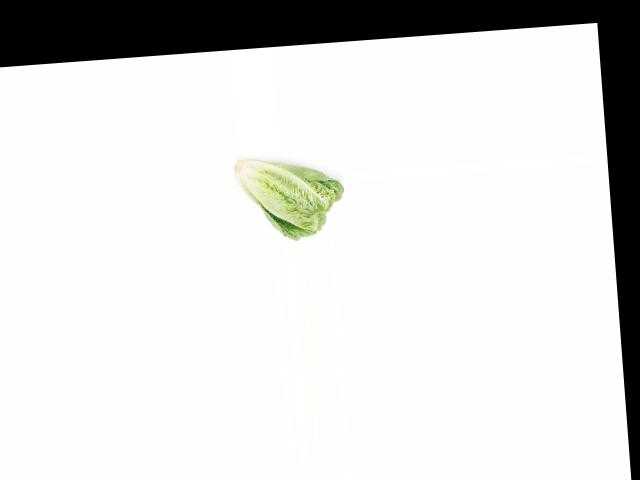lettuce: (231, 150, 346, 244)
